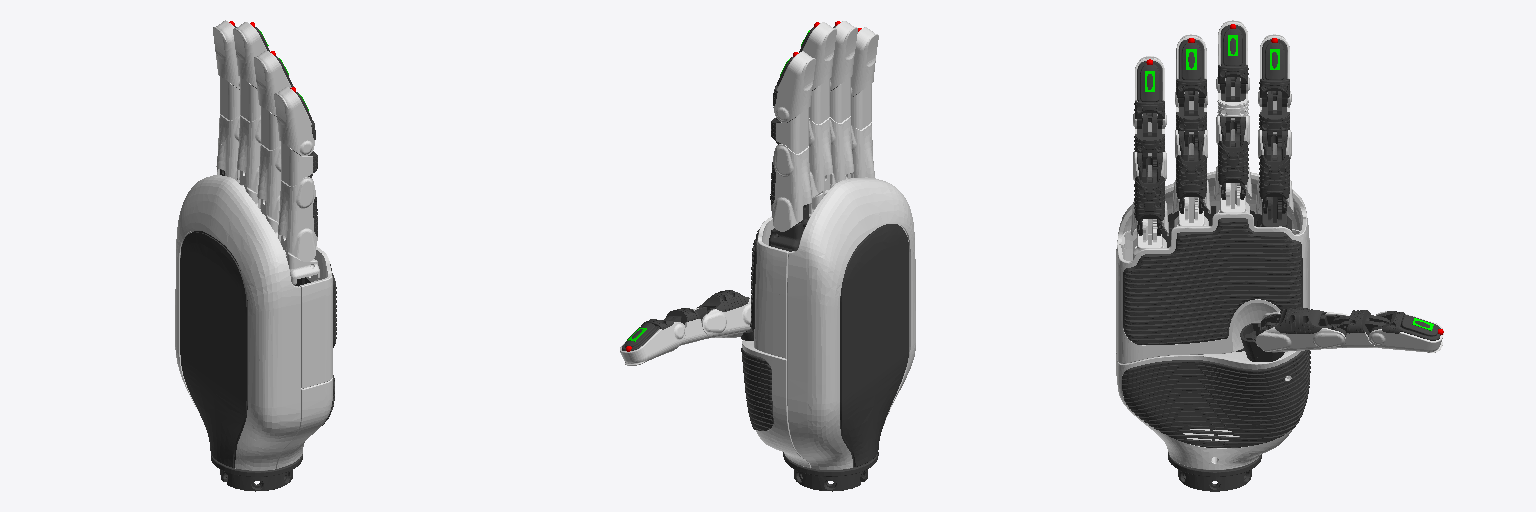
--- What the picture shows (computed from the rendered views, not written in the file) ---
Views: 3 orthographic renders of the robot side by side, from view 1: azimuth 30°, elevation 25°; view 2: azimuth 150°, elevation 25°; view 3: azimuth 270°, elevation 25°.
Robot: dexhand021_right — 74 links, 73 joints (23 revolute, 3 prismatic, 47 fixed); root link right_hand_base; default pose: all joints at 0.
Visible links, largest first — view 1: r_p_link6, r_p_link1, r_p_link2, r_f_link5_2_2, r_p_link4, r_f_link5_4_2, r_p_link0, r_f_link4_2_2, r_f_link3_2_2, r_f_link4_4_2, r_f_link3_4_2, r_f_link2_4_2 (+6 smaller); view 2: r_p_link6, r_p_link1, r_p_link2, r_f_link2_2_2, r_p_link4, r_f_link2_4_2, r_p_link5, r_p_link0, r_f_link3_2_2, r_f_link3_4_2, r_f_link1_4_2, r_f_link5_4_2 (+10 smaller); view 3: r_p_link3, r_p_link5, r_p_link2, r_p_link4, r_p_link6, r_f_link1_2_2, r_p_link0, r_f_link4_2_1, r_f_link5_2_1, r_f_link2_2_1, r_f_link3_2_1, r_f_link1_4_2 (+23 smaller).
Link boxes in pixels (<box>): r_p_link6: <box>175,175,300,470</box>; r_p_link1: <box>180,231,247,467</box>; r_p_link2: <box>298,246,332,388</box>; r_f_link5_2_2: <box>278,177,317,261</box>; r_p_link4: <box>276,378,332,468</box>; r_f_link5_4_2: <box>274,87,314,155</box>; r_p_link0: <box>211,277,310,491</box>; r_f_link4_2_2: <box>257,144,280,222</box>; r_f_link3_2_2: <box>237,115,260,193</box>; r_f_link4_4_2: <box>254,50,291,115</box>; r_f_link3_4_2: <box>233,22,266,87</box>; r_f_link2_4_2: <box>213,20,239,88</box>; r_p_link6: <box>787,177,915,469</box>; r_p_link1: <box>840,224,908,466</box>; r_p_link2: <box>754,216,788,358</box>; r_f_link2_2_2: <box>771,144,811,231</box>; r_p_link4: <box>742,340,810,468</box>; r_f_link2_4_2: <box>773,51,815,122</box>; r_p_link5: <box>741,348,773,430</box>; r_p_link0: <box>782,247,878,491</box>; r_f_link3_2_2: <box>809,117,832,197</box>; r_f_link3_4_2: <box>802,22,836,89</box>; r_f_link1_4_2: <box>620,322,685,365</box>; r_f_link5_4_2: <box>851,27,878,97</box>; r_p_link3: <box>1123,218,1302,344</box>; r_p_link5: <box>1122,350,1310,447</box>; r_p_link2: <box>1116,213,1309,363</box>; r_p_link4: <box>1116,351,1300,469</box>; r_p_link6: <box>1116,171,1309,376</box>; r_f_link1_2_2: <box>1256,311,1347,351</box>; r_p_link0: <box>1168,348,1261,491</box>; r_f_link4_2_1: <box>1176,155,1206,198</box>; r_f_link5_2_1: <box>1134,176,1164,220</box>; r_f_link2_2_1: <box>1259,155,1289,198</box>; r_f_link3_2_1: <box>1218,141,1248,184</box>; r_f_link1_4_2: <box>1369,311,1443,352</box>.
Bounding box of the posed robot: 0.0973 × 0.1916 × 0.2929 m (x, y, z).
57 mesh visuals loaded from 57 distinct referenced files (57 binary STL).

The robot description file, URDF, robot "dexhand021_right":
<robot name="dexhand021_right">

  <mujoco>
    <compiler meshdir="../meshes/dexhand021" balanceinertia="true" discardvisual="false" />
  </mujoco>

  <link name="right_hand_base" />

  <!-- dummy‐chain links -->
<link name="dummy_x_translation_link" />
<link name="dummy_y_translation_link" />
<link name="dummy_z_translation_link" />
<link name="dummy_x_rotation_link"    />
<link name="dummy_y_rotation_link"    />
<link name="dummy_z_rotation_link"    />

<joint name="dummy_x_translation_joint" type="prismatic">
  <parent link="right_hand_base"/>
  <child  link="dummy_x_translation_link"/>
  <origin  xyz="0 0 0" rpy="0 0 0"/>
  <axis    xyz="1 0 0"/>
  <limit lower="-1.0" upper="1.0" effort="100" velocity="1"/>
</joint>

<joint name="dummy_y_translation_joint" type="prismatic">
  <parent link="dummy_x_translation_link"/>
  <child  link="dummy_y_translation_link"/>
  <origin  xyz="0 0 0" rpy="0 0 0"/>
  <axis    xyz="0 1 0"/>
  <limit lower="-1.0" upper="1.0" effort="100" velocity="1"/>
</joint>

<joint name="dummy_z_translation_joint" type="prismatic">
  <parent link="dummy_y_translation_link"/>
  <child  link="dummy_z_translation_link"/>
  <origin  xyz="0 0 0" rpy="0 0 0"/>
  <axis    xyz="0 0 1"/>
  <limit lower="-1.0" upper="1.0" effort="100" velocity="1"/>
</joint>

<!-- 4) Revolute X -->
<joint name="dummy_x_rotation_joint" type="revolute">
  <parent link="dummy_z_translation_link"/>
  <child  link="dummy_x_rotation_link"/>
  <origin  xyz="0 0 0" rpy="0 0 0"/>
  <axis    xyz="1 0 0"/>
  <limit  effort="0" velocity="1.5" lower="-3.1416" upper="3.1416"/>
</joint>

<!-- 5) Revolute Y -->
<joint name="dummy_y_rotation_joint" type="revolute">
  <parent link="dummy_x_rotation_link"/>
  <child  link="dummy_y_rotation_link"/>
  <origin  xyz="0 0 0" rpy="0 0 0"/>
  <axis    xyz="0 1 0"/>
  <limit  effort="0" velocity="1.5" lower="-3.1416" upper="3.1416"/>
</joint>

<!-- 6) Revolute Z -->
<joint name="dummy_z_rotation_joint" type="revolute">
  <parent link="dummy_y_rotation_link"/>
  <child  link="dummy_z_rotation_link"/>
  <origin  xyz="0 0 0" rpy="0 0 0"/>
  <axis    xyz="0 0 1"/>
  <limit  effort="0" velocity="1.5" lower="-3.1416" upper="3.1416"/>
</joint>

 <joint name="right_base_to_hand" type="fixed">
   <parent link="dummy_z_rotation_link" />
    <child link="r_p_link0" />
    <origin xyz="0. 0. -0.17" rpy="0 0 -1.57" />
  </joint>

  <link name="r_p_link0">
    <inertial>
      <origin xyz="0.0011074986817912846 0.006472387526997947 0.23409601570168226" rpy="0 0 0" />
      <mass value="0.4581543554912673" />
      <inertia ixx="0.0009295048631862754" ixy="-7.470511061531124e-06" ixz="4.688908937883522e-05"
        iyy="0.0011649372562734278" iyz="-0.00012918188558484213" izz="0.00038367852399730603" />
    </inertial>
    <visual>
      <origin xyz="0 0 0" rpy="0 0 0" />
      <geometry>
        <mesh filename="../meshes/dexhand021/r_p_link0.STL" />
      </geometry>
      <material name="">
        <color rgba="0.3 0.3 0.3 1" />
      </material>
    </visual>
    <collision>
      <origin xyz="0 0 0" rpy="0 0 0" />
      <geometry>
        <mesh filename="../meshes/dexhand021/r_p_link0.STL" />
      </geometry>
    </collision>
  </link>

  <link name="r_f_link1_1">
    <inertial>
      <origin xyz="0.002052234636018281 -0.00037264296027423964 -0.018528755499499953" rpy="0 0 0" />
      <mass value="0.005180345914026771" />
      <inertia ixx="1.1430624890840813e-06" ixy="5.518285795047138e-09"
        ixz="-1.0163028770836786e-07" iyy="1.2177661234390168e-06" iyz="3.027326337843877e-08"
        izz="2.6375976308253893e-07" />
    </inertial>
    <visual>
      <origin xyz="0 0 0" rpy="0 0 0" />
      <geometry>
        <mesh filename="../meshes/dexhand021/r_f_link1_1.STL" />
      </geometry>
      <material name="">
        <color rgba="0.3 0.3 0.3 1" />
      </material>
    </visual>
    <collision>
      <origin xyz="0 0 0" rpy="0 0 0" />
      <geometry>
        <mesh filename="../meshes/dexhand021/r_f_link1_1.STL" />
      </geometry>
    </collision>
  </link>

  <joint name="r_f_joint1_1" type="revolute">
    <origin xyz="-0.023855 0.032704 0.27707" rpy="0.26842 -0.15197 2.8876" />
    <parent link="r_p_link0" />
    <child link="r_f_link1_1" />
    <axis xyz="0 0 -1" />
    <limit lower="0" upper="2.2" effort="10" velocity="1.5" />
    <joint_properties damping="0.3" friction="0.5" />
  </joint>

  <link name="r_f_link1_2">
    <inertial>
      <origin xyz="0.021535504665713034 -0.0005063776397706903 0.0008142325238396855" rpy="0 0 0" />
      <mass value="0.005145873046732899" />
      <inertia ixx="2.0955625734076771e-07" ixy="9.153029438541743e-09"
        ixz="-1.1384864654098634e-10" iyy="1.0604069584701188e-06" iyz="-1.1306254380399873e-09"
        izz="1.0442073361852394e-06" />
    </inertial>
    <visual>
      <origin xyz="0 0 0" rpy="0 0 0" />
      <geometry>
        <mesh filename="../meshes/dexhand021/r_f_link1_2.STL" />
      </geometry>
      <material name="">
        <color rgba="0.3 0.3 0.3 1" />
      </material>
    </visual>
    <collision>
      <origin xyz="0 0 0" rpy="0 0 0" />
      <geometry>
        <mesh filename="../meshes/dexhand021/r_f_link1_2.STL" />
      </geometry>
    </collision>
  </link>

  <joint name="r_f_joint1_2" type="revolute">
    <origin xyz="0.0083307 0 0" rpy="1.5708 0.019099 0" />
    <parent link="r_f_link1_1" />
    <child link="r_f_link1_2" />
    <axis xyz="0 0 1" />
    <limit lower="0" upper="1.3" effort="10" velocity="1.5" />
    <joint_properties damping="0.3" friction="0.5" effort="10" velocity="1.5" />
  </joint>

  <link name="r_f_link1_3">
    <inertial>
      <origin xyz="0.013223206653743833 -0.0007239105528826962 0.0012977744957347582" rpy="0 0 0" />
      <mass value="0.003510129470234603" />
      <inertia ixx="1.0264326739890384e-07" ixy="1.00343840042598e-08" ixz="-1.5371748569388218e-09"
        iyy="3.145228617298157e-07" iyz="-3.584871833385339e-11" izz="3.2605393609475024e-07" />
    </inertial>
    <visual>
      <origin xyz="0 0 0" rpy="0 0 0" />
      <geometry>
        <mesh filename="../meshes/dexhand021/r_f_link1_3.STL" />
      </geometry>
      <material name="">
        <color rgba="0.3 0.3 0.3 1" />
      </material>
    </visual>
    <collision>
      <origin xyz="0 0 0" rpy="0 0 0" />
      <geometry>
        <mesh filename="../meshes/dexhand021/r_f_link1_3.STL" />
      </geometry>
    </collision>
  </link>

  <joint name="r_f_joint1_3" type="revolute">
    <origin xyz="0.043 0 0" rpy="0 0 0" />
    <parent link="r_f_link1_2" />
    <child link="r_f_link1_3" />
    <axis xyz="0 0 1" />
    <limit lower="0" upper="1.3" effort="10" velocity="1.5" />
    <joint_properties damping="0.3" friction="0.5" effort="10" velocity="1.5" />
  </joint>

  <link name="r_f_link1_4">
    <inertial>
      <origin xyz="0.016827162662944168 -0.0025428441924313476 0.0012898514164979443" rpy="0 0 0" />
      <mass value="0.00435766768406691" />
      <inertia ixx="1.7288868935789171e-07" ixy="7.193280509045394e-08" ixz="9.525487099852026e-11"
        iyy="5.475564807637529e-07" iyz="-4.665149094714642e-11" izz="5.333289131753525e-07" />
    </inertial>
    <visual>
      <origin xyz="0 0 0" rpy="0 0 0" />
      <geometry>
        <mesh filename="../meshes/dexhand021/r_f_link1_4.STL" />
      </geometry>
      <material name="">
        <color rgba="0.3 0.3 0.3 1" />
      </material>
    </visual>
    <collision>
      <origin xyz="0 0 0" rpy="0 0 0" />
      <geometry>
        <mesh filename="../meshes/dexhand021/r_f_link1_4.STL" />
      </geometry>
    </collision>
  </link>

  <joint name="r_f_joint1_4" type="revolute">
    <origin xyz="0.025 0 0" rpy="0 0 0" />
    <parent link="r_f_link1_3" />
    <child link="r_f_link1_4" />
    <axis xyz="0 0 1" />
    <limit lower="0" upper="1.3" effort="10" velocity="1.5" />
    <joint_properties damping="0.3" friction="0.5" effort="10" velocity="1.5" />
  </joint>

  <link name="r_f_link1_4_1">
    <inertial>
      <origin xyz="0.00976545037646227 0.006088691115452144 0.0012928496121529978" rpy="0 0 0" />
      <mass value="0.00037285923791626445" />
      <inertia ixx="1.0806913722591278e-08" ixy="-1.434355226187965e-10" ixz="7.904650389859608e-13"
        iyy="1.2799737603403856e-08" iyz="9.706804921696106e-14" izz="2.971985515053042e-09" />
    </inertial>
    <visual>
      <origin xyz="0 0 0" rpy="0 0 0" />
      <geometry>
        <mesh filename="../meshes/dexhand021/r_f_link1_4_1.STL" />
      </geometry>
      <material name="">
        <color rgba="0.3 0.3 0.3 1" />
      </material>
    </visual>
    <collision>
      <origin xyz="0 0 0" rpy="0 0 0" />
      <geometry>
        <mesh filename="../meshes/dexhand021/r_f_link1_4_1.STL" />
      </geometry>
    </collision>
  </link>
  <joint name="r_f_joint1_4_1" type="fixed">
    <origin xyz="0 0 0" rpy="0 0 0" />
    <parent link="r_f_link1_4" />
    <child link="r_f_link1_4_1" />
    <axis xyz="0 0 0" />
  </joint>

  <link name="r_f_link1_4_2">
    <inertial>
      <origin xyz="0.015433183995062187 -0.0061487266621455365 0.0012940973222927408" rpy="0 0 0" />
      <mass value="0.0019468120969125988" />
      <inertia ixx="1.4302400339154933e-07" ixy="4.887309828246755e-08"
        ixz="-5.6859194196016716e-11" iyy="3.2625738627404407e-07" iyz="7.480451372260064e-12"
        izz="2.8666011578141626e-07" />
    </inertial>
    <visual>
      <origin xyz="0 0 0" rpy="0 0 0" />
      <geometry>
        <mesh filename="../meshes/dexhand021/r_f_link1_4_2.STL" />
      </geometry>
      <material name="">
        <color rgba="0.9 0.9 0.9 1" />
      </material>
    </visual>
    <collision>
      <origin xyz="0 0 0" rpy="0 0 0" />
      <geometry>
        <mesh filename="../meshes/dexhand021/r_f_link1_4_2.STL" />
      </geometry>
    </collision>
  </link>

  <joint name="r_f_joint1_4_2" type="fixed">
    <origin xyz="0 0 0" rpy="0 0 0" />
    <parent link="r_f_link1_4" />
    <child link="r_f_link1_4_2" />
    <axis xyz="0 0 0" />
  </joint>

  <link name="r_f_link1_3_1">
    <inertial>
      <origin xyz="0.012419626621348002 0.007723681641112162 0.0012920357276482693" rpy="0 0 0" />
      <mass value="0.0004927439497821333" />
      <inertia ixx="1.4812698827671589e-08" ixy="-2.4625303330183365e-10"
        ixz="-5.204752318762885e-13" iyy="1.6886270323136852e-08" iyz="-7.055265282688354e-13"
        izz="4.840002879941831e-09" />
    </inertial>
    <visual>
      <origin xyz="0 0 0" rpy="0 0 0" />
      <geometry>
        <mesh filename="../meshes/dexhand021/r_f_link1_3_1.STL" />
      </geometry>
      <material name="">
        <color rgba="0.3 0.3 0.3 1" />
      </material>
    </visual>
    <collision>
      <origin xyz="0 0 0" rpy="0 0 0" />
      <geometry>
        <mesh filename="../meshes/dexhand021/r_f_link1_3_1.STL" />
      </geometry>
    </collision>
  </link>

  <joint name="r_f_joint1_3_1" type="fixed">
    <origin xyz="0 0 0" rpy="0 0 0" />
    <parent link="r_f_link1_3" />
    <child link="r_f_link1_3_1" />
    <axis xyz="0 0 0" />
  </joint>
  <link name="r_f_link1_3_2">
    <inertial>
      <origin xyz="0.012938038149695234 -0.004966116981932351 0.0012957151384533254" rpy="0 0 0" />
      <mass value="0.0009264867224319483" />
      <inertia ixx="5.3427012938718874e-08" ixy="7.101425075294421e-10" ixz="-1.771926549530019e-12"
        iyy="7.062474289204522e-08" iyz="1.4720413014316507e-12" izz="4.7550430803969935e-08" />
    </inertial>
    <visual>
      <origin xyz="0 0 0" rpy="0 0 0" />
      <geometry>
        <mesh filename="../meshes/dexhand021/r_f_link1_3_2.STL" />
      </geometry>
      <material name="">
        <color rgba="0.9 0.9 0.9 1" />
      </material>
    </visual>
    <collision>
      <origin xyz="0 0 0" rpy="0 0 0" />
      <geometry>
        <mesh filename="../meshes/dexhand021/r_f_link1_3_2.STL" />
      </geometry>
    </collision>
  </link>

  <joint name="r_f_joint1_3_2" type="fixed">
    <origin xyz="0 0 0" rpy="0 0 0" />
    <parent link="r_f_link1_3" />
    <child link="r_f_link1_3_2" />
    <axis xyz="0 0 0" />
  </joint>

  <link name="r_f_link1_2_1">
    <inertial>
      <origin xyz="0.02043366719765508 0.0095110012352192 0.0012923408126127045" rpy="0 0 0" />
      <mass value="0.0016354719692142122" />
      <inertia ixx="4.4067685809533426e-08" ixy="3.6957813554077775e-09" ixz="6.271444606736929e-12"
        iyy="9.649204412507138e-08" iyz="-3.0566463158202232e-12" izz="6.793850270146395e-08" />
    </inertial>
    <visual>
      <origin xyz="0 0 0" rpy="0 0 0" />
      <geometry>
        <mesh filename="../meshes/dexhand021/r_f_link1_2_1.STL" />
      </geometry>
      <material name="">
        <color rgba="0.3 0.3 0.3 1" />
      </material>
    </visual>
    <collision>
      <origin xyz="0 0 0" rpy="0 0 0" />
      <geometry>
        <mesh filename="../meshes/dexhand021/r_f_link1_2_1.STL" />
      </geometry>
    </collision>
  </link>

  <joint name="r_f_joint1_2_1" type="fixed">
    <origin xyz="0 0 0" rpy="0 0 0" />
    <parent link="r_f_link1_2" />
    <child link="r_f_link1_2_1" />
    <axis xyz="0 0 0" />
  </joint>

  <link name="r_f_link1_2_2">
    <inertial>
      <origin xyz="0.022921501261816545 -0.0027716306188103625 0.0012979021572152708" rpy="0 0 0" />
      <mass value="0.002536590997261413" />
      <inertia ixx="2.2859663761882353e-07" ixy="1.3411101520302956e-08"
        ixz="3.0992878304785846e-10" iyy="6.01449052592349e-07" iyz="9.341938224099394e-11"
        izz="5.304297061779193e-07" />
    </inertial>
    <visual>
      <origin xyz="0 0 0" rpy="0 0 0" />
      <geometry>
        <mesh filename="../meshes/dexhand021/r_f_link1_2_2.STL" />
      </geometry>
      <material name="">
        <color rgba="0.9 0.9 0.9 1" />
      </material>
    </visual>
    <collision>
      <origin xyz="0 0 0" rpy="0 0 0" />
      <geometry>
        <mesh filename="../meshes/dexhand021/r_f_link1_2_2.STL" />
      </geometry>
    </collision>
  </link>

  <joint name="r_f_joint1_2_2" type="fixed">
    <origin xyz="0 0 0" rpy="0 0 0" />
    <parent link="r_f_link1_2" />
    <child link="r_f_link1_2_2" />
    <axis xyz="0 0 0" />
  </joint>

  <link name="r_f_link2_1">
    <inertial>
      <origin xyz="0.00800686231185624 1.8338860572319307e-05 -0.0015842278080929802" rpy="0 0 0" />
      <mass value="0.0035185790867912825" />
      <inertia ixx="2.306699006679482e-07" ixy="-8.218728590128597e-10" ixz="4.890426965618435e-08"
        iyy="3.7198481717440745e-07" iyz="-1.5962544309162244e-10" izz="2.980052968729545e-07" />
    </inertial>
    <visual>
      <origin xyz="0 0 0" rpy="0 0 0" />
      <geometry>
        <mesh filename="../meshes/dexhand021/r_f_link2_1.STL" />
      </geometry>
      <material name="">
        <color rgba="0.3 0.3 0.3 1" />
      </material>
    </visual>
    <collision>
      <origin xyz="0 0 0" rpy="0 0 0" />
      <geometry>
        <mesh filename="../meshes/dexhand021/r_f_link2_1.STL" />
      </geometry>
    </collision>
  </link>

  <joint name="r_f_joint2_1" type="revolute">
    <origin xyz="-0.034912 0.006966 0.3297" rpy="-1.5704 -1.5708 -0.00037051" />
    <parent link="r_p_link0" />
    <child link="r_f_link2_1" />
    <axis xyz="0 0 -1" />
    <limit lower="0" upper="0.6" effort="10" velocity="1.5" />
    <joint_properties damping="0.3" friction="0.5" />
  </joint>

  <link name="r_f_link2_2">
    <inertial>
      <origin xyz="0.021444679550905597 -0.00046289490893125946 -0.00047869270897582744" rpy="0 0 0" />
      <mass value="0.00498936744865468" />
      <inertia ixx="2.0644763911341987e-07" ixy="8.780455972495662e-09" ixz="-2.955798697672007e-10"
        iyy="1.0552014748309064e-06" iyz="-9.019287841475982e-10" izz="1.0401625323233909e-06" />
    </inertial>
    <visual>
      <origin xyz="0 0 0" rpy="0 0 0" />
      <geometry>
        <mesh filename="../meshes/dexhand021/r_f_link2_2.STL" />
      </geometry>
      <material name="">
        <color rgba="0.3 0.3 0.3 1" />
      </material>
    </visual>
    <collision>
      <origin xyz="0 0 0" rpy="0 0 0" />
      <geometry>
        <mesh filename="../meshes/dexhand021/r_f_link2_2.STL" />
      </geometry>
    </collision>
  </link>

  <joint name="r_f_joint2_2" type="revolute">
    <origin xyz="0.017 0 0" rpy="1.5708 0 0" />
    <parent link="r_f_link2_1" />
    <child link="r_f_link2_2" />
    <axis xyz="0 0 1" />
    <limit lower="0" upper="1.3" effort="10" velocity="1.5" />
    <joint_properties damping="0.3" friction="0.5" />
  </joint>

  <link name="r_f_link2_3">
    <inertial>
      <origin xyz="0.013280328692675957 -0.000619931592170148 -1.7863321659893763e-05" rpy="0 0 0" />
      <mass value="0.003320332898413509" />
      <inertia ixx="9.569221204956144e-08" ixy="1.0826362598444603e-08" ixz="-1.618171363270053e-09"
        iyy="3.077893159220674e-07" iyz="-8.827964273954512e-11" izz="3.2064040293000985e-07" />
    </inertial>
    <visual>
      <origin xyz="0 0 0" rpy="0 0 0" />
      <geometry>
        <mesh filename="../meshes/dexhand021/r_f_link2_3.STL" />
      </geometry>
      <material name="">
        <color rgba="0.3 0.3 0.3 1" />
      </material>
    </visual>
    <collision>
      <origin xyz="0 0 0" rpy="0 0 0" />
      <geometry>
        <mesh filename="../meshes/dexhand021/r_f_link2_3.STL" />
      </geometry>
    </collision>
  </link>

  <joint name="r_f_joint2_3" type="revolute">
    <origin xyz="0.043 0 0" rpy="0 0 0" />
    <parent link="r_f_link2_2" />
    <child link="r_f_link2_3" />
    <axis xyz="0 0 1" />
    <limit lower="0" upper="1.3" effort="10" velocity="1.5" />
    <joint_properties damping="0.3" friction="0.5" />
  </joint>

  <link name="r_f_link2_4">
    <inertial>
      <origin xyz="0.016835724143011772 -0.002545133894972038 -2.3757910612300705e-06" rpy="0 0 0" />
      <mass value="0.004352952819365211" />
      <inertia ixx="1.7269823391120784e-07" ixy="7.185121765683681e-08" ixz="1.0129621345450238e-10"
        iyy="5.47093812720547e-07" iyz="-4.584119052051053e-11" izz="5.330028957299744e-07" />
    </inertial>
    <visual>
      <origin xyz="0 0 0" rpy="0 0 0" />
      <geometry>
        <mesh filename="../meshes/dexhand021/r_f_link2_4.STL" />
      </geometry>
      <material name="">
        <color rgba="0.3 0.3 0.3 1" />
      </material>
    </visual>
    <collision>
      <origin xyz="0 0 0" rpy="0 0 0" />
      <geometry>
        <mesh filename="../meshes/dexhand021/r_f_link2_4.STL" />
      </geometry>
    </collision>
  </link>

  <joint name="r_f_joint2_4" type="revolute">
    <origin xyz="0.025 0 0" rpy="0 0 0" />
    <parent link="r_f_link2_3" />
    <child link="r_f_link2_4" />
    <axis xyz="0 0 1" />
    <limit lower="0" upper="1.3" effort="10" velocity="1.5" />
    <joint_properties damping="0.3" friction="0.5" />
  </joint>

  <link name="r_f_link2_4_1">
    <inertial>
      <origin xyz="0.009738422454577171 0.005930029867600307 5.184462774280181e-07" rpy="0 0 0" />
      <mass value="0.00038943301930674843" />
      <inertia ixx="1.1761888707665847e-08" ixy="-1.9209378389905702e-10"
        ixz="1.1862850720139696e-12" iyy="1.3432121472297152e-08" iyz="1.5284550933443108e-13"
        izz="3.3280605712689166e-09" />
    </inertial>
    <visual>
      <origin xyz="0 0 0" rpy="0 0 0" />
      <geometry>
        <mesh filename="../meshes/dexhand021/r_f_link2_4_1.STL" />
      </geometry>
      <material name="">
        <color rgba="0.3 0.3 0.3 1" />
      </material>
    </visual>
    <collision>
      <origin xyz="0 0 0" rpy="0 0 0" />
      <geometry>
        <mesh filename="../meshes/dexhand021/r_f_link2_4_1.STL" />
      </geometry>
    </collision>
  </link>

  <joint name="r_f_joint2_4_1" type="fixed">
    <origin xyz="0 0 0" rpy="0 0 0" />
    <parent link="r_f_link2_4" />
    <child link="r_f_link2_4_1" />
    <axis xyz="0 0 0" />
  </joint>

  <link name="r_f_link2_4_2">
    <inertial>
      <origin xyz="0.015433183876606105 -0.0061487266132256285 1.6634835699823495e-06" rpy="0 0 0" />
      <mass value="0.0019468121675446145" />
      <inertia ixx="1.4302405503412768e-07" ixy="4.8873098825622074e-08"
        ixz="-5.680610977824491e-11" iyy="3.262574395684356e-07" iyz="7.694530504406819e-12"
        izz="2.8666011857758844e-07" />
    </inertial>
    <visual>
      <origin xyz="0 0 0" rpy="0 0 0" />
      <geometry>
        <mesh filename="../meshes/dexhand021/r_f_link2_4_2.STL" />
      </geometry>
      <material name="">
        <color rgba="0.9 0.9 0.9 1" />
      </material>
    </visual>
    <collision>
      <origin xyz="0 0 0" rpy="0 0 0" />
      <geometry>
        <mesh filename="../meshes/dexhand021/r_f_link2_4_2.STL" />
      </geometry>
    </collision>
  </link>

  <joint name="r_f_joint2_4_2" type="fixed">
    <origin xyz="0 0 0" rpy="0 0 0" />
    <parent link="r_f_link2_4" />
    <child link="r_f_link2_4_2" />
    <axis xyz="0 0 0" />
  </joint>

  <link name="r_f_link2_3_1">
    <inertial>
      <origin xyz="0.012402519029567705 0.007714920695070759 1.755888957952506e-09" rpy="0 0 0" />
      <mass value="0.0004998303821989283" />
      <inertia ixx="1.5124255825893737e-08" ixy="-2.547965438972332e-10" ixz="1.430651712144926e-13"
        iyy="1.7135204383881638e-08" iyz="-1.9604892907397644e-13" izz="4.935996044724842e-09" />
    </inertial>
    <visual>
      <origin xyz="0 0 0" rpy="0 0 0" />
      <geometry>
        <mesh filename="../meshes/dexhand021/r_f_link2_3_1.STL" />
      </geometry>
      <material name="">
        <color rgba="0.3 0.3 0.3 1" />
      </material>
    </visual>
    <collision>
      <origin xyz="0 0 0" rpy="0 0 0" />
      <geometry>
        <mesh filename="../meshes/dexhand021/r_f_link2_3_1.STL" />
      </geometry>
    </collision>
  </link>

  <joint name="r_f_joint2_3_1" type="fixed">
    <origin xyz="0 0 0" rpy="0 0 0" />
    <parent link="r_f_link2_3" />
    <child link="r_f_link2_3_1" />
    <axis xyz="0 0 0" />
  </joint>

  <link name="r_f_link2_3_2">
    <inertial>
      <origin xyz="0.012938248197779298 -0.004966379635972421 -5.799490468577361e-07" rpy="0 0 0" />
      <mass value="0.0009265838824928239" />
      <inertia ixx="5.343367914587494e-08" ixy="7.112721953915515e-10" ixz="4.756436715881099e-12"
        iyy="7.063684996215453e-08" iyz="-9.60224831921344e-13" izz="4.755927862545621e-08" />
    </inertial>
    <visual>
      <origin xyz="0 0 0" rpy="0 0 0" />
      <geometry>
        <mesh filename="../meshes/dexhand021/r_f_link2_3_2.STL" />
      </geometry>
      <material name="">
        <color rgba="0.9 0.9 0.9 1" />
      </material>
    </visual>
    <collision>
      <origin xyz="0 0 0" rpy="0 0 0" />
      <geometry>
        <mesh filename="../meshes/dexhand021/r_f_link2_3_2.STL" />
      </geometry>
    </collision>
  </link>

  <joint name="r_f_joint2_3_2" type="fixed">
    <origin xyz="0 0 0" rpy="0 0 0" />
    <parent link="r_f_link2_3" />
    <child link="r_f_link2_3_2" />
    <axis xyz="0 0 0" />
  </joint>

  <link name="r_f_link2_2_1">
    <inertial>
      <origin xyz="0.020377386408224958 0.008105578472315775 -1.8358287781288275e-09" rpy="0 0 0" />
      <mass value="0.0009340644343559288" />
      <inertia ixx="2.720253099748294e-08" ixy="2.3188305776733503e-09" ixz="1.4872477691445135e-12"
        iyy="6.511791793415128e-08" iyz="-3.0048267713603094e-14" izz="4.166928950157199e-08" />
    </inertial>
    <visual>
      <origin xyz="0 0 0" rpy="0 0 0" />
      <geometry>
        <mesh filename="../meshes/dexhand021/r_f_link2_2_1.STL" />
      </geometry>
      <material name="">
        <color rgba="0.3 0.3 0.3 1" />
      </material>
    </visual>
    <collision>
      <origin xyz="0 0 0" rpy="0 0 0" />
      <geometry>
        <mesh filename="../meshes/dexhand021/r_f_link2_2_1.STL" />
      </geometry>
    </collision>
  </link>

  <joint name="r_f_joint2_2_1" type="fixed">
    <origin xyz="0 0 0" rpy="0 0 0" />
    <parent link="r_f_link2_2" />
    <child link="r_f_link2_2_1" />
    <axis xyz="0 0 0" />
  </joint>

  <link name="r_f_link2_2_2">
    <inertial>
      <origin xyz="0.021873800021975243 -0.002965944865835189 3.4265420049028122e-06" rpy="0 0 0" />
      <mass value="0.00267996297249627" />
      <inertia ixx="2.4610626292883507e-07" ixy="5.789691117977975e-09" ixz="1.382548467471143e-10"
        iyy="6.713031343525959e-07" iyz="6.22866562002737e-11" izz="5.922202883251119e-07" />
    </inertial>
    <visual>
      <origin xyz="0 0 0" rpy="0 0 0" />
      <geometry>
        <mesh filename="../meshes/dexhand021/r_f_link2_2_2.STL" />
      </geometry>
      <material name="">
        <color rgba="0.9 0.9 0.9 1" />
      </material>
    </visual>
    <collision>
      <origin xyz="0 0 0" rpy="0 0 0" />
      <geometry>
        <mesh filename="../meshes/dexhand021/r_f_link2_2_2.STL" />
      </geometry>
    </collision>
  </link>

  <joint name="r_f_joint2_2_2" type="fixed">
    <origin xyz="0 0 0" rpy="0 0 0" />
    <parent link="r_f_link2_2" />
    <child link="r_f_link2_2_2" />
    <axis xyz="0 0 0" />
  </joint>
  <link name="r_f_link3_1">
    <inertial>
      <origin xyz="0.008006862311855678 1.833886057219046e-05 -0.0015842278080930483" rpy="0 0 0" />
      <mass value="0.003518579086791124" />
      <inertia ixx="2.3066990066794662e-07" ixy="-8.218728590072904e-10" ixz="4.89042696561868e-08"
        iyy="3.719848171743812e-07" iyz="-1.5962544309061537e-10" izz="2.9800529687292726e-07" />
    </inertial>
    <visual>
      <origin xyz="0 0 0" rpy="0 0 0" />
      <geometry>
        <mesh filename="../meshes/dexhand021/r_f_link3_1.STL" />
      </geometry>
      <material name="">
        <color rgba="0.9 0.9 0.9 1" />
      </material>
    </visual>
    <collision>
      <origin xyz="0 0 0" rpy="0 0 0" />
      <geometry>
        <mesh filename="../meshes/dexhand021/r_f_link3_1.STL" />
      </geometry>
    </collision>
  </link>

  <joint name="r_f_joint3_1" type="revolute">
    <origin xyz="-0.010612 0.006966 0.3387" rpy="-1.5708 -1.5708 0" />
    <parent link="r_p_link0" />
    <child link="r_f_link3_1" />
    <axis xyz="0 0 1" />
    <limit lower="-0.001" upper="0.001" effort="10" velocity="1.5" />
  </joint>

  <link name="r_f_link3_2">
    <inertial>
      <origin xyz="0.0214446795509126 -0.0004628949089306857 -0.00047869270898023646" rpy="0 0 0" />
      <mass value="0.004989367448661263" />
      <inertia ixx="2.0644763911347884e-07" ixy="8.780455972493084e-09" ixz="-2.95579869573802e-10"
        iyy="1.0552014748311842e-06" iyz="-9.019287841379943e-10" izz="1.0401625323236151e-06" />
    </inertial>
    <visual>
      <origin xyz="0 0 0" rpy="0 0 0" />
      <geometry>
        <mesh filename="../meshes/dexhand021/r_f_link3_2.STL" />
      </geometry>
      <material name="">
        <color rgba="0.3 0.3 0.3 1" />
      </material>
    </visual>
    <collision>
      <origin xyz="0 0 0" rpy="0 0 0" />
      <geometry>
        <mesh filename="../meshes/dexhand021/r_f_link3_2.STL" />
      </geometry>
    </collision>
  </link>

  <joint name="r_f_joint3_2" type="revolute">
    <origin xyz="0.017 0 0" rpy="1.5708 0 0" />
    <parent link="r_f_link3_1" />
    <child link="r_f_link3_2" />
    <axis xyz="0 0 1" />
    <limit lower="0" upper="1.3" effort="10" velocity="1.5" />
    <joint_properties damping="0.3" friction="0.5" />
  </joint>

  <link name="r_f_link3_3">
    <inertial>
      <origin xyz="0.0132803286926748 -0.0006199315921702265 -1.786332165976888e-05" rpy="0 0 0" />
      <mass value="0.0033203328984138664" />
      <inertia ixx="9.569221204957329e-08" ixy="1.0826362598445498e-08" ixz="-1.618171363264896e-09"
        iyy="3.0778931592210784e-07" iyz="-8.827964274285192e-11" izz="3.206404029300592e-07" />
    </inertial>
    <visual>
      <origin xyz="0 0 0" rpy="0 0 0" />
      <geometry>
        <mesh filename="../meshes/dexhand021/r_f_link3_3.STL" />
      </geometry>
      <material name="">
        <color rgba="0.3 0.3 0.3 1" />
      </material>
    </visual>
    <collision>
      <origin xyz="0 0 0" rpy="0 0 0" />
      <geometry>
        <mesh filename="../meshes/dexhand021/r_f_link3_3.STL" />
      </geometry>
    </collision>
  </link>

  <joint name="r_f_joint3_3" type="revolute">
    <origin xyz="0.043 0 0" rpy="0 0 0" />
    <parent link="r_f_link3_2" />
    <child link="r_f_link3_3" />
    <axis xyz="0 0 1" />
    <limit lower="0" upper="1.3" effort="10" velocity="1.5" />
    <joint_properties damping="0.3" friction="0.5" />
  </joint>

  <link name="r_f_link3_4">
    <inertial>
      <origin xyz="0.016835724143235947 -0.002545133894915793 -2.3757913431007993e-06" rpy="0 0 0" />
      <mass value="0.00435295281947875" />
      <inertia ixx="1.726982339150151e-07" ixy="7.185121765445112e-08" ixz="1.0129621334840551e-10"
        iyy="5.470938127334459e-07" iyz="-4.5841181377205924e-11" izz="5.330028957389768e-07" />
    </inertial>
    <visual>
      <origin xyz="0 0 0" rpy="0 0 0" />
      <geometry>
        <mesh filename="../meshes/dexhand021/r_f_link3_4.STL" />
      </geometry>
      <material name="">
        <color rgba="0.3 0.3 0.3 1" />
      </material>
    </visual>
    <collision>
      <origin xyz="0 0 0" rpy="0 0 0" />
      <geometry>
        <mesh filename="../meshes/dexhand021/r_f_link3_4.STL" />
      </geometry>
    </collision>
  </link>

  <joint name="r_f_joint3_4" type="revolute">
    <origin xyz="0.025 0 0" rpy="0 0 0" />
    <parent link="r_f_link3_3" />
    <child link="r_f_link3_4" />
    <axis xyz="0 0 1" />
    <limit lower="0" upper="1.3" effort="10" velocity="1.5" />
    <joint_properties damping="0.3" friction="0.5" />
  </joint>

  <link name="r_f_link3_4_1">
    <inertial>
      <origin xyz="0.00973842245457717 0.005930029867600307 5.184462774227637e-07" rpy="0 0 0" />
      <mass value="0.00038943301930674805" />
      <inertia ixx="1.1761888707665837e-08" ixy="-1.9209378389904087e-10"
        ixz="1.1862850720234711e-12" iyy="1.3432121472297112e-08" iyz="1.5284550934109045e-13"
        izz="3.3280605712688587e-09" />
    </inertial>
    <visual>
      <origin xyz="0 0 0" rpy="0 0 0" />
      <geometry>
        <mesh filename="../meshes/dexhand021/r_f_link3_4_1.STL" />
      </geometry>
      <material name="">
        <color rgba="0.3 0.3 0.3 1" />
      </material>
    </visual>
    <collision>
      <origin xyz="0 0 0" rpy="0 0 0" />
      <geometry>
        <mesh filename="../meshes/dexhand021/r_f_link3_4_1.STL" />
      </geometry>
    </collision>
  </link>

  <joint name="r_f_joint3_4_1" type="fixed">
    <origin xyz="0 0 0" rpy="0 0 0" />
    <parent link="r_f_link3_4" />
    <child link="r_f_link3_4_1" />
    <axis xyz="0 0 0" />
  </joint>

  <link name="r_f_link3_4_2">
    <inertial>
      <origin xyz="0.01543318387448119 -0.006148726611295269 1.6634813380393825e-06" rpy="0 0 0" />
      <mass value="0.0019468121669157683" />
      <inertia ixx="1.430240549955516e-07" ixy="4.887309879653706e-08" ixz="-5.6806065428602425e-11"
        iyy="3.262574395389442e-07" iyz="7.694507632569444e-12" izz="2.866601185434766e-07" />
    </inertial>
    <visual>
      <origin xyz="0 0 0" rpy="0 0 0" />
      <geometry>
        <mesh filename="../meshes/dexhand021/r_f_link3_4_2.STL" />
      </geometry>
      <material name="">
        <color rgba="0.9 0.9 0.9 1" />
      </material>
    </visual>
    <collision>
      <origin xyz="0 0 0" rpy="0 0 0" />
      <geometry>
        <mesh filename="../meshes/dexhand021/r_f_link3_4_2.STL" />
      </geometry>
    </collision>
  </link>

  <joint name="r_f_joint3_4_2" type="fixed">
    <origin xyz="0 0 0" rpy="0 0 0" />
    <parent link="r_f_link3_4" />
    <child link="r_f_link3_4_2" />
    <axis xyz="0 0 0" />
  </joint>

  <link name="r_f_link3_3_1">
    <inertial>
      <origin xyz="0.01240251902956771 0.007714920695070754 1.7558889534359512e-09" rpy="0 0 0" />
      <mass value="0.000499830382198927" />
      <inertia ixx="1.5124255825893717e-08" ixy="-2.5479654389723967e-10"
        ixz="1.430651712179438e-13" iyy="1.7135204383881638e-08" iyz="-1.960489290658667e-13"
        izz="4.935996044724816e-09" />
    </inertial>
    <visual>
      <origin xyz="0 0 0" rpy="0 0 0" />
      <geometry>
        <mesh filename="../meshes/dexhand021/r_f_link3_3_1.STL" />
      </geometry>
      <material name="">
        <color rgba="0.9 0.9 0.9 1" />
      </material>
    </visual>
    <collision>
      <origin xyz="0 0 0" rpy="0 0 0" />
      <geometry>
        <mesh filename="../meshes/dexhand021/r_f_link3_3_1.STL" />
      </geometry>
    </collision>
  </link>

  <joint name="r_f_joint3_3_1" type="fixed">
    <origin xyz="0 0 0" rpy="0 0 0" />
    <parent link="r_f_link3_3" />
    <child link="r_f_link3_3_1" />
    <axis xyz="0 0 0" />
  </joint>

  <link name="r_f_link3_3_2">
    <inertial>
      <origin xyz="0.012938248197779308 -0.004966379635972423 -5.799490468601163e-07" rpy="0 0 0" />
      <mass value="0.0009265838824928244" />
      <inertia ixx="5.343367914587498e-08" ixy="7.112721953916032e-10" ixz="4.756436715900807e-12"
        iyy="7.063684996215463e-08" iyz="-9.602248319345149e-13" izz="4.755927862545633e-08" />
    </inertial>
    <visual>
      <origin xyz="0 0 0" rpy="0 0 0" />
      <geometry>
        <mesh filename="../meshes/dexhand021/r_f_link3_3_2.STL" />
      </geometry>
      <material name="">
        <color rgba="0.9 0.9 0.9 1" />
      </material>
    </visual>
    <collision>
      <origin xyz="0 0 0" rpy="0 0 0" />
      <geometry>
        <mesh filename="../meshes/dexhand021/r_f_link3_3_2.STL" />
      </geometry>
    </collision>
  </link>

  <joint name="r_f_joint3_3_2" type="fixed">
    <origin xyz="0 0 0" rpy="0 0 0" />
    <parent link="r_f_link3_3" />
    <child link="r_f_link3_3_2" />
    <axis xyz="0 0 0" />
  </joint>

  <link name="r_f_link3_2_1">
    <inertial>
      <origin xyz="0.020377386408302157 0.00810557847223745 -1.8357669268881134e-09" rpy="0 0 0" />
      <mass value="0.0009340644343708481" />
      <inertia ixx="2.7202530998167588e-08" ixy="2.3188305780266598e-09"
        ixz="1.4872474913601505e-12" iyy="6.511791793480502e-08" iyz="-3.004794370512531e-14"
        izz="4.1669289502301566e-08" />
    </inertial>
    <visual>
      <origin xyz="0 0 0" rpy="0 0 0" />
      <geometry>
        <mesh filename="../meshes/dexhand021/r_f_link3_2_1.STL" />
      </geometry>
      <material name="">
        <color rgba="0.3 0.3 0.3 1" />
      </material>
    </visual>
    <collision>
      <origin xyz="0 0 0" rpy="0 0 0" />
      <geometry>
        <mesh filename="../meshes/dexhand021/r_f_link3_2_1.STL" />
      </geometry>
    </collision>
  </link>

  <joint name="r_f_link3_2_1" type="fixed">
    <origin xyz="0 0 0" rpy="0 0 0" />
    <parent link="r_f_link3_2" />
    <child link="r_f_link3_2_1" />
    <axis xyz="0 0 0" />
  </joint>

  <link name="r_f_link3_2_2">
    <inertial>
      <origin xyz="0.02187380002158159 -0.0029659448659418693 3.426541867550771e-06" rpy="0 0 0" />
      <mass value="0.0026799629725441426" />
      <inertia ixx="2.46106262933417e-07" ixy="5.789691111699338e-09" ixz="1.3825483861861467e-10"
        iyy="6.713031343787116e-07" iyz="6.228665402436512e-11" izz="5.922202883500953e-07" />
    </inertial>
    <visual>
      <origin xyz="0 0 0" rpy="0 0 0" />
      <geometry>
        <mesh filename="../meshes/dexhand021/r_f_link3_2_2.STL" />
      </geometry>
      <material name="">
        <color rgba="0.9 0.9 0.9 1" />
      </material>
    </visual>
    <collision>
      <origin xyz="0 0 0" rpy="0 0 0" />
      <geometry>
        <mesh filename="../meshes/dexhand021/r_f_link3_2_2.STL" />
      </geometry>
    </collision>
  </link>

  <joint name="r_f_joint3_2_2" type="fixed">
    <origin xyz="0 0 0" rpy="0 0 0" />
    <parent link="r_f_link3_2" />
    <child link="r_f_link3_2_2" />
    <axis xyz="0 0 0" />
  </joint>

  <link name="r_f_link4_1">
    <inertial>
      <origin xyz="0.008006862311855783 1.8338860572211737e-05 -0.0015842278080930808" rpy="0 0 0" />
      <mass value="0.003518579086791169" />
      <inertia ixx="2.30669900667947e-07" ixy="-8.218728590086198e-10" ixz="4.8904269656185084e-08"
        iyy="3.719848171743863e-07" iyz="-1.5962544309071068e-10" izz="2.980052968729333e-07" />
    </inertial>
    <visual>
      <origin xyz="0 0 0" rpy="0 0 0" />
      <geometry>
        <mesh filename="../meshes/dexhand021/r_f_link4_1.STL" />
      </geometry>
      <material name="">
        <color rgba="0.9 0.9 0.9 1" />
      </material>
    </visual>
    <collision>
      <origin xyz="0 0 0" rpy="0 0 0" />
      <geometry>
        <mesh filename="../meshes/dexhand021/r_f_link4_1.STL" />
      </geometry>
    </collision>
  </link>

  <joint name="r_f_joint4_1" type="revolute">
    <origin xyz="0.013688 0.006966 0.3297" rpy="-1.5708 -1.5708 0" />
    <parent link="r_p_link0" />
    <child link="r_f_link4_1" />
    <axis xyz="0 0 1" />
    <limit lower="0" upper="0.6" effort="10" velocity="1.5" />
    <joint_properties damping="0.3" friction="0.5" />
  </joint>

  <link name="r_f_link4_2">
    <inertial>
      <origin xyz="0.021444679550906676 -0.00046289490893104815 -0.0004786927089766433" rpy="0 0 0" />
      <mass value="0.004989367448655343" />
      <inertia ixx="2.064476391134477e-07" ixy="8.78045597250818e-09" ixz="-2.9557986970972456e-10"
        iyy="1.0552014748310246e-06" iyz="-9.019287841432915e-10" izz="1.0401625323234898e-06" />
    </inertial>
    <visual>
      <origin xyz="0 0 0" rpy="0 0 0" />
      <geometry>
        <mesh filename="../meshes/dexhand021/r_f_link4_2.STL" />
      </geometry>
      <material name="">
        <color rgba="0.3 0.3 0.3 1" />
      </material>
    </visual>
    <collision>
      <origin xyz="0 0 0" rpy="0 0 0" />
      <geometry>
        <mesh filename="../meshes/dexhand021/r_f_link4_2.STL" />
      </geometry>
    </collision>
  </link>

  <joint name="r_f_joint4_2" type="revolute">
    <origin xyz="0.017 0 0" rpy="1.5708 0 0" />
    <parent link="r_f_link4_1" />
    <child link="r_f_link4_2" />
    <axis xyz="0 0 1" />
    <limit lower="0" upper="1.3" effort="10" velocity="1.5" />
    <joint_properties damping="0.3" friction="0.5" />
  </joint>

  <link name="r_f_link4_3">
    <inertial>
      <origin xyz="0.013280328692675118 -0.0006199315921702536 -1.7863321659824374e-05" rpy="0 0 0" />
      <mass value="0.0033203328984136053" />
      <inertia ixx="9.569221204956856e-08" ixy="1.0826362598447786e-08"
        ixz="-1.6181713632650623e-09" iyy="3.077893159220978e-07" iyz="-8.827964274264371e-11"
        izz="3.206404029300517e-07" />
    </inertial>
    <visual>
      <origin xyz="0 0 0" rpy="0 0 0" />
      <geometry>
        <mesh filename="../meshes/dexhand021/r_f_link4_3.STL" />
      </geometry>
      <material name="">
        <color rgba="0.3 0.3 0.3 1" />
      </material>
    </visual>
    <collision>
      <origin xyz="0 0 0" rpy="0 0 0" />
      <geometry>
        <mesh filename="../meshes/dexhand021/r_f_link4_3.STL" />
      </geometry>
    </collision>
  </link>

  <joint name="r_f_joint4_3" type="revolute">
    <origin xyz="0.043 0 0" rpy="0 0 0" />
    <parent link="r_f_link4_2" />
    <child link="r_f_link4_3" />
    <axis xyz="0 0 1" />
    <limit lower="0" upper="1.3" effort="10" velocity="1.5" />
    <joint_properties damping="0.3" friction="0.5" />
  </joint>

  <link name="r_f_link4_4">
    <inertial>
      <origin xyz="0.016835724142979052 -0.002545133895002117 -2.3757912991866514e-06" rpy="0 0 0" />
      <mass value="0.004352952819355013" />
      <inertia ixx="1.726982339129985e-07" ixy="7.185121765660962e-08" ixz="1.0129621084417931e-10"
        iyy="5.47093812718992e-07" iyz="-4.5841181436560185e-11" izz="5.330028957234555e-07" />
    </inertial>
    <visual>
      <origin xyz="0 0 0" rpy="0 0 0" />
      <geometry>
        <mesh filename="../meshes/dexhand021/r_f_link4_4.STL" />
      </geometry>
      <material name="">
        <color rgba="0.3 0.3 0.3 1" />
      </material>
    </visual>
    <collision>
      <origin xyz="0 0 0" rpy="0 0 0" />
      <geometry>
        <mesh filename="../meshes/dexhand021/r_f_link4_4.STL" />
      </geometry>
    </collision>
  </link>

  <joint name="r_f_joint4_4" type="revolute">
    <origin xyz="0.025 0 0" rpy="0 0 0" />
    <parent link="r_f_link4_3" />
    <child link="r_f_link4_4" />
    <axis xyz="0 0 1" />
    <limit lower="0" upper="1.3" effort="10" velocity="1.5" />
    <joint_properties damping="0.3" friction="0.5" />
  </joint>

  <link name="r_f_link4_4_1">
    <inertial>
      <origin xyz="0.00973842245459893 0.005930029867598804 5.184462258307792e-07" rpy="0 0 0" />
      <mass value="0.00038943301930773646" />
      <inertia ixx="1.1761888707777007e-08" ixy="-1.920937838807718e-10"
        ixz="1.1862851425339631e-12" iyy="1.3432121472446845e-08" iyz="1.5284543351363474e-13"
        izz="3.328060571257918e-09" />
    </inertial>
    <visual>
      <origin xyz="0 0 0" rpy="0 0 0" />
      <geometry>
        <mesh filename="../meshes/dexhand021/r_f_link4_4_1.STL" />
      </geometry>
      <material name="">
        <color rgba="0.3 0.3 0.3 1" />
      </material>
    </visual>
    <collision>
      <origin xyz="0 0 0" rpy="0 0 0" />
      <geometry>
        <mesh filename="../meshes/dexhand021/r_f_link4_4_1.STL" />
      </geometry>
    </collision>
  </link>

  <joint name="r_f_joint4_4_1" type="fixed">
    <origin xyz="0 0 0" rpy="0 0 0" />
    <parent link="r_f_link4_4" />
    <child link="r_f_link4_4_1" />
    <axis xyz="0 0 0" />
  </joint>

  <link name="r_f_link4_4_2">
    <inertial>
      <origin xyz="0.015433183877996647 -0.006148726613474619 1.663483296615289e-06" rpy="0 0 0" />
      <mass value="0.0019468121676849014" />
      <inertia ixx="1.430240550380539e-07" ixy="4.887309883489138e-08" ixz="-5.680609950280635e-11"
        iyy="3.262574396227581e-07" iyz="7.694528690012234e-12" izz="2.866601186317795e-07" />
    </inertial>
    <visual>
      <origin xyz="0 0 0" rpy="0 0 0" />
      <geometry>
        <mesh filename="../meshes/dexhand021/r_f_link4_4_2.STL" />
      </geometry>
      <material name="">
        <color rgba="0.9 0.9 0.9 1" />
      </material>
    </visual>
    <collision>
      <origin xyz="0 0 0" rpy="0 0 0" />
      <geometry>
        <mesh filename="../meshes/dexhand021/r_f_link4_4_2.STL" />
      </geometry>
    </collision>
  </link>

  <joint name="r_f_joint4_4_2" type="fixed">
    <origin xyz="0 0 0" rpy="0 0 0" />
    <parent link="r_f_link4_4" />
    <child link="r_f_link4_4_2" />
    <axis xyz="0 0 0" />
  </joint>

  <link name="r_f_link4_3_2">
    <inertial>
      <origin xyz="0.01293824819777932 -0.004966379635972429 -5.799490468630916e-07" rpy="0 0 0" />
      <mass value="0.0009265838824928253" />
      <inertia ixx="5.343367914587497e-08" ixy="7.112721953916162e-10" ixz="4.75643671594095e-12"
        iyy="7.063684996215479e-08" iyz="-9.602248319449433e-13" izz="4.755927862545644e-08" />
    </inertial>
    <visual>
      <origin xyz="0 0 0" rpy="0 0 0" />
      <geometry>
        <mesh filename="../meshes/dexhand021/r_f_link4_3_2.STL" />
      </geometry>
      <material name="">
        <color rgba="0.9 0.9 0.9 1" />
      </material>
    </visual>
    <collision>
      <origin xyz="0 0 0" rpy="0 0 0" />
      <geometry>
        <mesh filename="../meshes/dexhand021/r_f_link4_3_2.STL" />
      </geometry>
    </collision>
  </link>

  <joint name="r_f_joint4_3_2" type="fixed">
    <origin xyz="0 0 0" rpy="0 0 0" />
    <parent link="r_f_link4_3" />
    <child link="r_f_link4_3_2" />
    <axis xyz="0 0 0" />
  </joint>

  <link name="r_f_link4_3_1">
    <inertial>
      <origin xyz="0.012402519029617028 0.007714920695189423 1.7562179048963857e-09" rpy="0 0 0" />
      <mass value="0.000499830382166977" />
      <inertia ixx="1.5124255824896736e-08" ixy="-2.547965438512665e-10"
        ixz="1.4306529804306634e-13" iyy="1.713520438301633e-08" iyz="-1.9604862408080834e-13"
        izz="4.935996044555075e-09" />
    </inertial>
    <visual>
      <origin xyz="0 0 0" rpy="0 0 0" />
      <geometry>
        <mesh filename="../meshes/dexhand021/r_f_link4_3_1.STL" />
      </geometry>
      <material name="">
        <color rgba="0.3 0.3 0.3 1" />
      </material>
    </visual>
    <collision>
      <origin xyz="0 0 0" rpy="0 0 0" />
      <geometry>
        <mesh filename="../meshes/dexhand021/r_f_link4_3_1.STL" />
      </geometry>
    </collision>
  </link>

  <joint name="r_f_joint4_3_1" type="fixed">
    <origin xyz="0 0 0" rpy="0 0 0" />
    <parent link="r_f_link4_3" />
    <child link="r_f_link4_3_1" />
    <axis xyz="0 0 0" />
  </joint>

  <link name="r_f_link4_2_1">
    <inertial>
      <origin xyz="0.020377386408241372 0.00810557847230356 -1.8358250730400228e-09" rpy="0 0 0" />
      <mass value="0.0009340644343591204" />
      <inertia ixx="2.720253099758899e-08" ixy="2.31883057772797e-09" ixz="1.4872477534318147e-12"
        iyy="6.511791793427609e-08" iyz="-3.0048229349295314e-14" izz="4.166928950170176e-08" />
    </inertial>
    <visual>
      <origin xyz="0 0 0" rpy="0 0 0" />
      <geometry>
        <mesh filename="../meshes/dexhand021/r_f_link4_2_1.STL" />
      </geometry>
      <material name="">
        <color rgba="0.3 0.3 0.3 1" />
      </material>
    </visual>
    <collision>
      <origin xyz="0 0 0" rpy="0 0 0" />
      <geometry>
        <mesh filename="../meshes/dexhand021/r_f_link4_2_1.STL" />
      </geometry>
    </collision>
  </link>

  <joint name="r_f_joint4_2_1" type="fixed">
    <origin xyz="0 0 0" rpy="0 0 0" />
    <parent link="r_f_link4_2" />
    <child link="r_f_link4_2_1" />
    <axis xyz="0 0 0" />
  </joint>

  <link name="r_f_link4_2_2">
    <inertial>
      <origin xyz="0.021873800021581503 -0.0029659448659418606 3.4265418675301423e-06" rpy="0 0 0" />
      <mass value="0.002679962972544183" />
      <inertia ixx="2.4610626293342106e-07" ixy="5.7896911117007345e-09"
        ixz="1.3825483861862083e-10" iyy="6.713031343787191e-07" iyz="6.228665402431011e-11"
        izz="5.922202883501009e-07" />
    </inertial>
    <visual>
      <origin xyz="0 0 0" rpy="0 0 0" />
      <geometry>
        <mesh filename="../meshes/dexhand021/r_f_link4_2_2.STL" />
      </geometry>
      <material name="">
        <color rgba="0.9 0.9 0.9 1" />
      </material>
    </visual>
    <collision>
      <origin xyz="0 0 0" rpy="0 0 0" />
      <geometry>
        <mesh filename="../meshes/dexhand021/r_f_link4_2_2.STL" />
      </geometry>
    </collision>
  </link>

  <joint name="r_f_joint4_2_2" type="fixed">
    <origin xyz="0 0 0" rpy="0 0 0" />
    <parent link="r_f_link4_2" />
    <child link="r_f_link4_2_2" />
    <axis xyz="0 0 0" />
  </joint>

  <link name="r_f_link5_1">
    <inertial>
      <origin xyz="0.008006862311856088 1.833886057228032e-05 -0.0015842278080930164" rpy="0 0 0" />
      <mass value="0.003518579086791241" />
      <inertia ixx="2.3066990066794765e-07" ixy="-8.218728590113506e-10" ixz="4.890426965618449e-08"
        iyy="3.7198481717439967e-07" iyz="-1.5962544309106417e-10" izz="2.9800529687294685e-07" />
    </inertial>
    <visual>
      <origin xyz="0 0 0" rpy="0 0 0" />
      <geometry>
        <mesh filename="../meshes/dexhand021/r_f_link5_1.STL" />
      </geometry>
      <material name="">
        <color rgba="0.9 0.9 0.9 1" />
      </material>
    </visual>
    <collision>
      <origin xyz="0 0 0" rpy="0 0 0" />
      <geometry>
        <mesh filename="../meshes/dexhand021/r_f_link5_1.STL" />
      </geometry>
    </collision>
  </link>

  <joint name="r_f_joint5_1" type="revolute">
    <origin xyz="0.037988 0.006966 0.3157" rpy="-1.5708 -1.5708 0" />
    <parent link="r_p_link0" />
    <child link="r_f_link5_1" />
    <axis xyz="0 0 1" />
    <limit lower="0" upper="0.6" effort="10" velocity="1.5" />
    <joint_properties damping="0.3" friction="0.5" />
  </joint>

  <link name="r_f_link5_2">
    <inertial>
      <origin xyz="0.021444679550906603 -0.0004628949089313295 -0.0004786927089768149" rpy="0 0 0" />
      <mass value="0.004989367448655121" />
      <inertia ixx="2.0644763911342805e-07" ixy="8.78045597248202e-09" ixz="-2.955798697224554e-10"
        iyy="1.0552014748309056e-06" iyz="-9.019287841410571e-10" izz="1.0401625323233744e-06" />
    </inertial>
    <visual>
      <origin xyz="0 0 0" rpy="0 0 0" />
      <geometry>
        <mesh filename="../meshes/dexhand021/r_f_link5_2.STL" />
      </geometry>
      <material name="">
        <color rgba="0.3 0.3 0.3 1" />
      </material>
    </visual>
    <collision>
      <origin xyz="0 0 0" rpy="0 0 0" />
      <geometry>
        <mesh filename="../meshes/dexhand021/r_f_link5_2.STL" />
      </geometry>
    </collision>
  </link>

  <joint name="r_f_joint5_2" type="revolute">
    <origin xyz="0.017 0 0" rpy="1.5708 0 0" />
    <parent link="r_f_link5_1" />
    <child link="r_f_link5_2" />
    <axis xyz="0 0 1" />
    <limit lower="0" upper="1.3" effort="10" velocity="1.5" />
    <joint_properties damping="0.3" friction="0.5" />
  </joint>

  <link name="r_f_link5_3">
    <inertial>
      <origin xyz="0.013280328692676044 -0.0006199315921701265 -1.7863321659867563e-05" rpy="0 0 0" />
      <mass value="0.003320332898413456" />
      <inertia ixx="9.569221204956008e-08" ixy="1.0826362598447572e-08" ixz="-1.618171363270022e-09"
        iyy="3.07789315922064e-07" iyz="-8.8279642739463e-11" izz="3.2064040293000583e-07" />
    </inertial>
    <visual>
      <origin xyz="0 0 0" rpy="0 0 0" />
      <geometry>
        <mesh filename="../meshes/dexhand021/r_f_link5_3.STL" />
      </geometry>
      <material name="">
        <color rgba="0.3 0.3 0.3 1" />
      </material>
    </visual>
    <collision>
      <origin xyz="0 0 0" rpy="0 0 0" />
      <geometry>
        <mesh filename="../meshes/dexhand021/r_f_link5_3.STL" />
      </geometry>
    </collision>
  </link>

  <joint name="r_f_joint5_3" type="revolute">
    <origin xyz="0.043 0 0" rpy="0 0 0" />
    <parent link="r_f_link5_2" />
    <child link="r_f_link5_3" />
    <axis xyz="0 0 1" />
    <limit lower="0" upper="1.3" effort="10" velocity="1.5" />
    <joint_properties damping="0.3" friction="0.5" />
  </joint>

  <link name="r_f_link5_4">
    <inertial>
      <origin xyz="0.016835724193078983 -0.0025451339066119762 -2.375807710636194e-06" rpy="0 0 0" />
      <mass value="0.004352952855182437" />
      <inertia ixx="1.7269823605837294e-07" ixy="7.185121819458006e-08" ixz="1.0129642288770988e-10"
        iyy="5.470938167242791e-07" iyz="-4.58411448890324e-11" izz="5.330028980487818e-07" />
    </inertial>
    <visual>
      <origin xyz="0 0 0" rpy="0 0 0" />
      <geometry>
        <mesh filename="../meshes/dexhand021/r_f_link5_4.STL" />
      </geometry>
      <material name="">
        <color rgba="0.3 0.3 0.3 1" />
      </material>
    </visual>
    <collision>
      <origin xyz="0 0 0" rpy="0 0 0" />
      <geometry>
        <mesh filename="../meshes/dexhand021/r_f_link5_4.STL" />
      </geometry>
    </collision>
  </link>

  <joint name="r_f_joint5_4" type="revolute">
    <origin xyz="0.025 0 0" rpy="0 0 0" />
    <parent link="r_f_link5_3" />
    <child link="r_f_link5_4" />
    <axis xyz="0 0 1" />
    <limit lower="0" upper="1.3" effort="10" velocity="1.5" />
    <joint_properties damping="0.3" friction="0.5" />
  </joint>

  <link name="r_f_link5_4_1">
    <inertial>
      <origin xyz="0.009738422454345726 0.005930029867607992 5.184464520480232e-07" rpy="0 0 0" />
      <mass value="0.0003894330192680039" />
      <inertia ixx="1.1761888706684738e-08" ixy="-1.9209378388774791e-10"
        ixz="1.186284566954947e-12" iyy="1.343212147099201e-08" iyz="1.5284533404108687e-13"
        izz="3.3280605709656387e-09" />
    </inertial>
    <visual>
      <origin xyz="0 0 0" rpy="0 0 0" />
      <geometry>
        <mesh filename="../meshes/dexhand021/r_f_link5_4_1.STL" />
      </geometry>
      <material name="">
        <color rgba="0.3 0.3 0.3 1" />
      </material>
    </visual>
    <collision>
      <origin xyz="0 0 0" rpy="0 0 0" />
      <geometry>
        <mesh filename="../meshes/dexhand021/r_f_link5_4_1.STL" />
      </geometry>
    </collision>
  </link>

  <joint name="r_f_joint5_4_1" type="fixed">
    <origin xyz="0 0 0" rpy="0 0 0" />
    <parent link="r_f_link5_4" />
    <child link="r_f_link5_4_1" />
    <axis xyz="0 0 0" />
  </joint>

  <link name="r_f_link5_4_2">
    <inertial>
      <origin xyz="0.0154331838795733 -0.006148726613435892 1.6634833667932593e-06" rpy="0 0 0" />
      <mass value="0.0019468121678303657" />
      <inertia ixx="1.4302405503834416e-07" ixy="4.887309883330095e-08" ixz="-5.680610238540891e-11"
        iyy="3.2625743968777925e-07" iyz="7.69452862032312e-12" izz="2.866601186965895e-07" />
    </inertial>
    <visual>
      <origin xyz="0 0 0" rpy="0 0 0" />
      <geometry>
        <mesh filename="../meshes/dexhand021/r_f_link5_4_2.STL" />
      </geometry>
      <material name="">
        <color rgba="0.9 0.9 0.9 1" />
      </material>
    </visual>
    <collision>
      <origin xyz="0 0 0" rpy="0 0 0" />
      <geometry>
        <mesh filename="../meshes/dexhand021/r_f_link5_4_2.STL" />
      </geometry>
    </collision>
  </link>

  <joint name="r_f_joint5_4_2" type="fixed">
    <origin xyz="0 0 0" rpy="0 0 0" />
    <parent link="r_f_link5_4" />
    <child link="r_f_link5_4_2" />
    <axis xyz="0 0 0" />
  </joint>

  <link name="r_f_link5_3_1">
    <inertial>
      <origin xyz="0.012402519029617032 0.007714920695189426 1.7562179048963862e-09" rpy="0 0 0" />
      <mass value="0.0004998303821669769" />
      <inertia ixx="1.5124255824896716e-08" ixy="-2.547965438512407e-10"
        ixz="1.4306529804306637e-13" iyy="1.7135204383016278e-08" iyz="-1.960486240812324e-13"
        izz="4.935996044554998e-09" />
    </inertial>
    <visual>
      <origin xyz="0 0 0" rpy="0 0 0" />
      <geometry>
        <mesh filename="../meshes/dexhand021/r_f_link5_3_1.STL" />
      </geometry>
      <material name="">
        <color rgba="0.3 0.3 0.3 1" />
      </material>
    </visual>
    <collision>
      <origin xyz="0 0 0" rpy="0 0 0" />
      <geometry>
        <mesh filename="../meshes/dexhand021/r_f_link5_3_1.STL" />
      </geometry>
    </collision>
  </link>

  <joint name="r_f_joint5_3_1" type="fixed">
    <origin xyz="0 0 0" rpy="0 0 0" />
    <parent link="r_f_link5_3" />
    <child link="r_f_link5_3_1" />
    <axis xyz="0 0 0" />
  </joint>

  <link name="r_f_link5_3_2">
    <inertial>
      <origin xyz="0.01293824819777932 -0.0049663796359724266 -5.799490468630916e-07" rpy="0 0 0" />
      <mass value="0.0009265838824928253" />
      <inertia ixx="5.343367914587496e-08" ixy="7.11272195391642e-10" ixz="4.75643671594095e-12"
        iyy="7.063684996215479e-08" iyz="-9.602248319449449e-13" izz="4.755927862545644e-08" />
    </inertial>
    <visual>
      <origin xyz="0 0 0" rpy="0 0 0" />
      <geometry>
        <mesh filename="../meshes/dexhand021/r_f_link5_3_2.STL" />
      </geometry>
      <material name="">
        <color rgba="0.9 0.9 0.9 1" />
      </material>
    </visual>
    <collision>
      <origin xyz="0 0 0" rpy="0 0 0" />
      <geometry>
        <mesh filename="../meshes/dexhand021/r_f_link5_3_2.STL" />
      </geometry>
    </collision>
  </link>

  <joint name="r_f_joint5_3_2" type="fixed">
    <origin xyz="0 0 0" rpy="0 0 0" />
    <parent link="r_f_link5_3" />
    <child link="r_f_link5_3_2" />
    <axis xyz="0 0 0" />
  </joint>

  <link name="r_f_link5_2_1">
    <inertial>
      <origin xyz="0.020377386408241372 0.008105578472303553 -1.8358250729477754e-09" rpy="0 0 0" />
      <mass value="0.0009340644343591205" />
      <inertia ixx="2.720253099758908e-08" ixy="2.3188305777278408e-09" ixz="1.487247753426462e-12"
        iyy="6.511791793427604e-08" iyz="-3.0048229347950653e-14" izz="4.1669289501701814e-08" />
    </inertial>
    <visual>
      <origin xyz="0 0 0" rpy="0 0 0" />
      <geometry>
        <mesh filename="../meshes/dexhand021/r_f_link5_2_1.STL" />
      </geometry>
      <material name="">
        <color rgba="0.3 0.3 0.3 1" />
      </material>
    </visual>
    <collision>
      <origin xyz="0 0 0" rpy="0 0 0" />
      <geometry>
        <mesh filename="../meshes/dexhand021/r_f_link5_2_1.STL" />
      </geometry>
    </collision>
  </link>

  <joint name="r_f_joint5_2_1" type="fixed">
    <origin xyz="0 0 0" rpy="0 0 0" />
    <parent link="r_f_link5_2" />
    <child link="r_f_link5_2_1" />
    <axis xyz="0 0 0" />
  </joint>

  <link name="r_f_link5_2_2">
    <inertial>
      <origin xyz="0.021873800021581506 -0.0029659448659418476 3.426541867502145e-06" rpy="0 0 0" />
      <mass value="0.002679962972544193" />
      <inertia ixx="2.46106262933422e-07" ixy="5.789691111700786e-09" ixz="1.3825483861714583e-10"
        iyy="6.71303134378717e-07" iyz="6.228665402449863e-11" izz="5.922202883500982e-07" />
    </inertial>
    <visual>
      <origin xyz="0 0 0" rpy="0 0 0" />
      <geometry>
        <mesh filename="../meshes/dexhand021/r_f_link5_2_2.STL" />
      </geometry>
      <material name="">
        <color rgba="0.9 0.9 0.9 1" />
      </material>
    </visual>
    <collision>
      <origin xyz="0 0 0" rpy="0 0 0" />
      <geometry>
        <mesh filename="../meshes/dexhand021/r_f_link5_2_2.STL" />
      </geometry>
    </collision>
  </link>

  <joint name="r_f_joint5_2_2" type="fixed">
    <origin xyz="0 0 0" rpy="0 0 0" />
    <parent link="r_f_link5_2" />
    <child link="r_f_link5_2_2" />
    <axis xyz="0 0 0" />
  </joint>
  <link name="r_p_link1">
    <inertial>
      <origin xyz="-0.03983372937532701 0.048318738836771104 -0.023220400917865352" rpy="0 0 0" />
      <mass value="0.08395173603509726" />
      <inertia ixx="0.00012040829039635112" ixy="-1.165209573497419e-05"
        ixz="-7.789908423713231e-06" iyy="0.00014604141761124853" iyz="-2.991920415909922e-05"
        izz="4.7314809288739126e-05" />
    </inertial>
    <visual>
      <origin xyz="0 0 0" rpy="0 0 0" />
      <geometry>
        <mesh filename="../meshes/dexhand021/r_p_link1.STL" />
      </geometry>
      <material name="">
        <color rgba="0.3 0.3 0.3 1" />
      </material>
    </visual>
    <collision>
      <origin xyz="0 0 0" rpy="0 0 0" />
      <geometry>
        <mesh filename="../meshes/dexhand021/r_p_link1.STL" />
      </geometry>
    </collision>
  </link>

  <joint name="r_f_joint1" type="fixed">
    <origin xyz="-0.023855 0.032704 0.27707" rpy="0.26842 -0.15197 2.8876" />
    <parent link="r_p_link0" />
    <child link="r_p_link1" />
    <axis xyz="0 0 0" />
  </joint>

  <link name="r_p_link3">
    <inertial>
      <origin xyz="-0.023161994358886367 0.008827545164030117 0.028148918014715408" rpy="0 0 0" />
      <mass value="0.044023395748120794" />
      <inertia ixx="1.657783033756586e-05" ixy="-1.0074900806535015e-05"
        ixz="-2.7952616846464315e-06" iyy="4.857172440501163e-05" iyz="-3.7260527167385354e-06"
        izz="3.9136531429190556e-05" />
    </inertial>
    <visual>
      <origin xyz="0 0 0" rpy="0 0 0" />
      <geometry>
        <mesh filename="../meshes/dexhand021/r_p_link3.STL" />
      </geometry>
      <material name="">
        <color rgba="0.3 0.3 0.3 1" />
      </material>
    </visual>
    <collision>
      <origin xyz="0 0 0" rpy="0 0 0" />
      <geometry>
        <mesh filename="../meshes/dexhand021/r_p_link3.STL" />
      </geometry>
    </collision>
  </link>

  <joint name="r_f_joint3" type="fixed">
    <origin xyz="-0.023855 0.032704 0.27707" rpy="0.26842 -0.15197 2.8876" />
    <parent link="r_p_link0" />
    <child link="r_p_link3" />
    <axis xyz="0 0 0" />
  </joint>

  <link name="r_p_link4">
    <inertial>
      <origin xyz="-0.029728719311365205 -0.005167865235956345 -0.049836801625217676" rpy="0 0 0" />
      <mass value="0.08245656201270479" />
      <inertia ixx="5.0966548840461536e-05" ixy="-1.8079842771281853e-05"
        ixz="7.255409393800377e-06" iyy="0.0001400271032885779" iyz="-1.8792898324957583e-06"
        izz="0.00011089137773553913" />
    </inertial>
    <visual>
      <origin xyz="0 0 0" rpy="0 0 0" />
      <geometry>
        <mesh filename="../meshes/dexhand021/r_p_link4.STL" />
      </geometry>
      <material name="">
        <color rgba="0.9 0.9 0.9 1" />
      </material>
    </visual>
    <collision>
      <origin xyz="0 0 0" rpy="0 0 0" />
      <geometry>
        <mesh filename="../meshes/dexhand021/r_p_link4.STL" />
      </geometry>
    </collision>
  </link>

  <joint name="r_f_joint4" type="fixed">
    <origin xyz="-0.023855 0.032704 0.27707" rpy="0.26842 -0.15197 2.8876" />
    <parent link="r_p_link0" />
    <child link="r_p_link4" />
    <axis xyz="0 0 0" />
  </joint>

  <link name="r_p_link5">
    <inertial>
      <origin xyz="-0.02256730562958097 -0.008908175434005319 -0.04271790120102455" rpy="0 0 0" />
      <mass value="0.022516997147359073" />
      <inertia ixx="6.9054075800312385e-06" ixy="-4.748758245879274e-06" ixz="2.480307192762497e-06"
        iyy="2.6840879459598314e-05" iyz="-2.977574673633291e-07" izz="2.3808613382932757e-05" />
    </inertial>
    <visual>
      <origin xyz="0 0 0" rpy="0 0 0" />
      <geometry>
        <mesh filename="../meshes/dexhand021/r_p_link5.STL" />
      </geometry>
      <material name="">
        <color rgba="0.3 0.3 0.3 1" />
      </material>
    </visual>
    <collision>
      <origin xyz="0 0 0" rpy="0 0 0" />
      <geometry>
        <mesh filename="../meshes/dexhand021/r_p_link5.STL" />
      </geometry>
    </collision>
  </link>

  <joint name="r_f_joint5" type="fixed">
    <origin xyz="-0.023855 0.032704 0.27707" rpy="0.26842 -0.15197 2.8876" />
    <parent link="r_p_link0" />
    <child link="r_p_link5" />
    <axis xyz="0 0 0" />
  </joint>

  <link name="r_p_link6">
    <inertial>
      <origin xyz="-0.03535057740967973 0.043677222866326595 -0.0050236994810133224" rpy="0 0 0" />
      <mass value="0.11253371281264385" />
      <inertia ixx="0.0003117175467033626" ixy="-5.4116455221252724e-05"
        ixz="-6.753370576657375e-06" iyy="0.0004800635113732598" iyz="-7.067860373900912e-05"
        izz="0.0002442919035738954" />
    </inertial>
    <visual>
      <origin xyz="0 0 0" rpy="0 0 0" />
      <geometry>
        <mesh filename="../meshes/dexhand021/r_p_link6.STL" />
      </geometry>
      <material name="">
        <color rgba="0.9 0.9 0.9 1" />
      </material>
    </visual>
    <collision>
      <origin xyz="0 0 0" rpy="0 0 0" />
      <geometry>
        <mesh filename="../meshes/dexhand021/r_p_link6.STL" />
      </geometry>
    </collision>
  </link>

  <joint name="r_f_joint6" type="fixed">
    <origin xyz="-0.023855 0.032704 0.27707" rpy="0.26842 -0.15197 2.8876" />
    <parent link="r_p_link0" />
    <child link="r_p_link6" />
    <axis xyz="0 0 0" />
  </joint>

  <link name="r_p_link2">
    <inertial>
      <origin xyz="-0.02488575295174602 0.013706703059175068 0.02016484295334375" rpy="0 0 0" />
      <mass value="0.07899657199227124" />
      <inertia ixx="4.975254347933829e-05" ixy="-3.0011939254056938e-05"
        ixz="3.5761513462259534e-07" iyy="0.00015515806271547663" iyz="-5.261583107963936e-06"
        izz="0.00013160402220833075" />
    </inertial>
    <visual>
      <origin xyz="0 0 0" rpy="0 0 0" />
      <geometry>
        <mesh filename="../meshes/dexhand021/r_p_link2.STL" />
      </geometry>
      <material name="">
        <color rgba="0.9 0.9 0.9 1" />
      </material>
    </visual>
    <collision>
      <origin xyz="0 0 0" rpy="0 0 0" />
      <geometry>
        <mesh filename="../meshes/dexhand021/r_p_link2.STL" />
      </geometry>
    </collision>
  </link>

  <joint name="r_f_joint2" type="fixed">
    <origin xyz="-0.023855 0.032704 0.27707" rpy="0.26842 -0.15197 2.8876" />
    <parent link="r_p_link0" />
    <child link="r_p_link2" />
    <axis xyz="0 0 0" />
  </joint>


  <link name="r_f_link1_tip">
    <inertial>
      <origin xyz="0 0 0" rpy="0 0 0" />
      <mass value="0.001" />
      <inertia ixx="1.0E-09" ixy="0.0" ixz="0.0" iyy="1.0E-09" iyz="0.0" izz="1.0E-09" />
    </inertial>
    <visual>
      <origin xyz="0 0 0" rpy="0 0 0" />
      <geometry>
        <sphere radius="0.002" />
      </geometry>
      <material name="">
        <color rgba="1 0 0 1" />
      </material>
    </visual>
    <collision>
      <origin xyz="0 0 0" rpy="0 0 0" />
      <geometry>
        <sphere radius="0.002" />
      </geometry>
    </collision>
  </link>

  <joint name="r_f_joint1_tip" type="fixed">
    <origin xyz="0.035 -0.004 0" rpy="0 0 0" />
    <parent link="r_f_link1_4" />
    <child link="r_f_link1_tip" />
  </joint>

  <link name="r_f_link2_tip">
    <inertial>
      <origin xyz="0 0 0" rpy="0 0 0" />
      <mass value="0.001" />
      <inertia ixx="1.0E-09" ixy="0.0" ixz="0.0" iyy="1.0E-09" iyz="0.0" izz="1.0E-09" />
    </inertial>
    <visual>
      <origin xyz="0 0 0" rpy="0 0 0" />
      <geometry>
        <sphere radius="0.002" />
      </geometry>
      <material name="">
        <color rgba="1 0 0 1" />
      </material>
    </visual>
    <collision>
      <origin xyz="0 0 0" rpy="0 0 0" />
      <geometry>
        <sphere radius="0.002" />
      </geometry>
    </collision>
  </link>

  <joint name="r_f_joint2_tip" type="fixed">
    <origin xyz="0.035 -0.004 0" rpy="0 0 0" />
    <parent link="r_f_link2_4" />
    <child link="r_f_link2_tip" />
  </joint>

  <link name="r_f_link3_tip">
    <inertial>
      <origin xyz="0 0 0" rpy="0 0 0" />
      <mass value="0.001" />
      <inertia ixx="1.0E-09" ixy="0.0" ixz="0.0" iyy="1.0E-09" iyz="0.0" izz="1.0E-09" />
    </inertial>
    <visual>
      <origin xyz="0 0 0" rpy="0 0 0" />
      <geometry>
        <sphere radius="0.002" />
      </geometry>
      <material name="">
        <color rgba="1 0 0 1" />
      </material>
    </visual>
    <collision>
      <origin xyz="0 0 0" rpy="0 0 0" />
      <geometry>
        <sphere radius="0.002" />
      </geometry>
    </collision>
  </link>

  <joint name="r_f_joint3_tip" type="fixed">
    <origin xyz="0.035 -0.004 0" rpy="0 0 0" />
    <parent link="r_f_link3_4" />
    <child link="r_f_link3_tip" />
  </joint>

  <link name="r_f_link4_tip">
    <inertial>
      <origin xyz="0 0 0" rpy="0 0 0" />
      <mass value="0.001" />
      <inertia ixx="1.0E-09" ixy="0.0" ixz="0.0" iyy="1.0E-09" iyz="0.0" izz="1.0E-09" />
    </inertial>
    <visual>
      <origin xyz="0 0 0" rpy="0 0 0" />
      <geometry>
        <sphere radius="0.002" />
      </geometry>
      <material name="">
        <color rgba="1 0 0 1" />
      </material>
    </visual>
    <collision>
      <origin xyz="0 0 0" rpy="0 0 0" />
      <geometry>
        <sphere radius="0.002" />
      </geometry>
    </collision>
  </link>

  <joint name="r_f_joint4_tip" type="fixed">
    <origin xyz="0.035 -0.004 0" rpy="0 0 0" />
    <parent link="r_f_link4_4" />
    <child link="r_f_link4_tip" />
  </joint>

  <link name="r_f_link5_tip">
    <inertial>
      <origin xyz="0 0 0" rpy="0 0 0" />
      <mass value="0.001" />
      <inertia ixx="1.0E-09" ixy="0.0" ixz="0.0" iyy="1.0E-09" iyz="0.0" izz="1.0E-09" />
    </inertial>
    <visual>
      <origin xyz="0 0 0" rpy="0 0 0" />
      <geometry>
        <sphere radius="0.002" />
      </geometry>
      <material name="">
        <color rgba="1 0 0 1" />
      </material>
    </visual>
    <collision>
      <origin xyz="0 0 0" rpy="0 0 0" />
      <geometry>
        <sphere radius="0.002" />
      </geometry>
    </collision>
  </link>

  <joint name="r_f_joint5_tip" type="fixed">
    <origin xyz="0.035 -0.004 0" rpy="0 0 0" />
    <parent link="r_f_link5_4" />
    <child link="r_f_link5_tip" />
  </joint>

  <link name="r_f_link1_pad">
    <inertial>
      <origin xyz="0 0 0" rpy="0 0 0" />
      <mass value="0.001" />
      <inertia ixx="1.0E-09" ixy="0.0" ixz="0.0" iyy="1.0E-09" iyz="0.0" izz="1.0E-09" />
    </inertial>
    <visual>
      <origin xyz="0 0 0" rpy="0 0 0" />
      <geometry>
        <box size="0.012 0.001 0.006" />
      </geometry>
      <material name="">
        <color rgba="0 1 0 1" />
      </material>
    </visual>
    <collision>
      <origin xyz="0 0 0" rpy="0 0 0" />
      <geometry>
        <box size="0.012 0.001 0.006" />
      </geometry>
    </collision>
  </link>

  <joint name="r_f_joint1_pad" type="fixed">
    <origin xyz="0.026 0.0025 0.001" rpy="0 0 -0.45" />
    <parent link="r_f_link1_4" />
    <child link="r_f_link1_pad" />
  </joint>

  <link name="r_f_link2_pad">
    <inertial>
      <origin xyz="0 0 0" rpy="0 0 0" />
      <mass value="0.001" />
      <inertia ixx="1.0E-09" ixy="0.0" ixz="0.0" iyy="1.0E-09" iyz="0.0" izz="1.0E-09" />
    </inertial>
    <visual>
      <origin xyz="0 0 0" rpy="0 0 0" />
      <geometry>
        <box size="0.012 0.001 0.006" />
      </geometry>
      <material name="">
        <color rgba="0 1 0 1" />
      </material>
    </visual>
    <collision>
      <origin xyz="0 0 0" rpy="0 0 0" />
      <geometry>
        <box size="0.012 0.001 0.006" />
      </geometry>
    </collision>
  </link>

  <joint name="r_f_joint2_pad" type="fixed">
    <origin xyz="0.026 0.0025 0.000" rpy="0 0 -0.45" />
    <parent link="r_f_link2_4" />
    <child link="r_f_link2_pad" />
  </joint>

  <link name="r_f_link3_pad">
    <inertial>
      <origin xyz="0 0 0" rpy="0 0 0" />
      <mass value="0.001" />
      <inertia ixx="1.0E-09" ixy="0.0" ixz="0.0" iyy="1.0E-09" iyz="0.0" izz="1.0E-09" />
    </inertial>
    <visual>
      <origin xyz="0 0 0" rpy="0 0 0" />
      <geometry>
        <box size="0.012 0.001 0.006" />
      </geometry>
      <material name="">
        <color rgba="0 1 0 1" />
      </material>
    </visual>
    <collision>
      <origin xyz="0 0 0" rpy="0 0 0" />
      <geometry>
        <box size="0.012 0.001 0.006" />
      </geometry>
    </collision>
  </link>

  <joint name="r_f_joint3_pad" type="fixed">
    <origin xyz="0.026 0.0025 0.000" rpy="0 0 -0.45" />
    <parent link="r_f_link3_4" />
    <child link="r_f_link3_pad" />
  </joint>

  <link name="r_f_link4_pad">
    <inertial>
      <origin xyz="0 0 0" rpy="0 0 0" />
      <mass value="0.001" />
      <inertia ixx="1.0E-09" ixy="0.0" ixz="0.0" iyy="1.0E-09" iyz="0.0" izz="1.0E-09" />
    </inertial>
    <visual>
      <origin xyz="0 0 0" rpy="0 0 0" />
      <geometry>
        <box size="0.012 0.001 0.006" />
      </geometry>
      <material name="">
        <color rgba="0 1 0 1" />
      </material>
    </visual>
    <collision>
      <origin xyz="0 0 0" rpy="0 0 0" />
      <geometry>
        <box size="0.012 0.001 0.006" />
      </geometry>
    </collision>
  </link>

  <joint name="r_f_joint4_pad" type="fixed">
    <origin xyz="0.026 0.0025 0.000" rpy="0 0 -0.45" />
    <parent link="r_f_link4_4" />
    <child link="r_f_link4_pad" />
  </joint>

  <link name="r_f_link5_pad">
    <inertial>
      <origin xyz="0 0 0" rpy="0 0 0" />
      <mass value="0.001" />
      <inertia ixx="1.0E-09" ixy="0.0" ixz="0.0" iyy="1.0E-09" iyz="0.0" izz="1.0E-09" />
    </inertial>
    <visual>
      <origin xyz="0 0 0" rpy="0 0 0" />
      <geometry>
        <box size="0.012 0.001 0.006" />
      </geometry>
      <material name="">
        <color rgba="0 1 0 1" />
      </material>
    </visual>
    <collision>
      <origin xyz="0 0 0" rpy="0 0 0" />
      <geometry>
        <box size="0.012 0.001 0.006" />
      </geometry>
    </collision>
  </link>

  <joint name="r_f_joint5_pad" type="fixed">
    <origin xyz="0.026 0.0025 0.000" rpy="0 0 -0.45" />
    <parent link="r_f_link5_4" />
    <child link="r_f_link5_pad" />
  </joint>
</robot>
